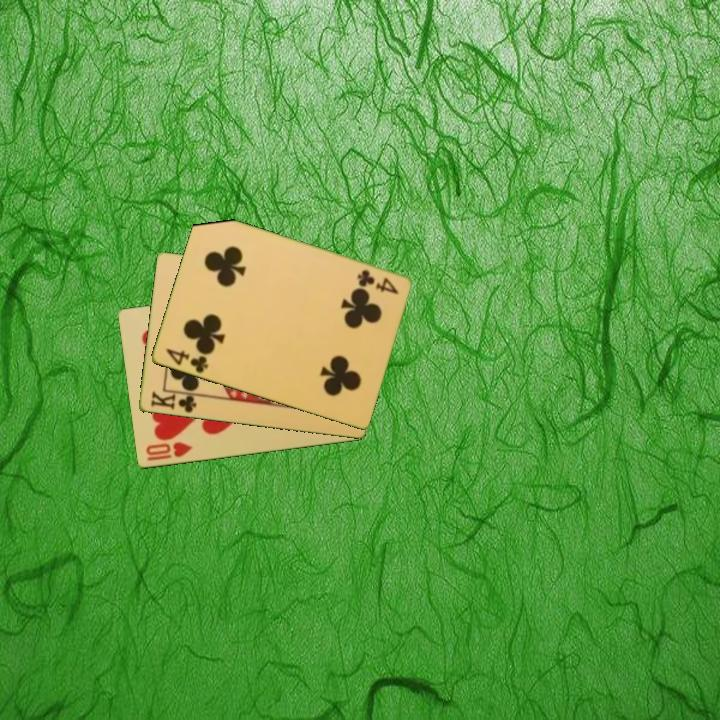10h: (142, 439, 195, 464)
4c: (162, 345, 211, 377), (353, 266, 401, 297)
Kc: (147, 388, 202, 416)
